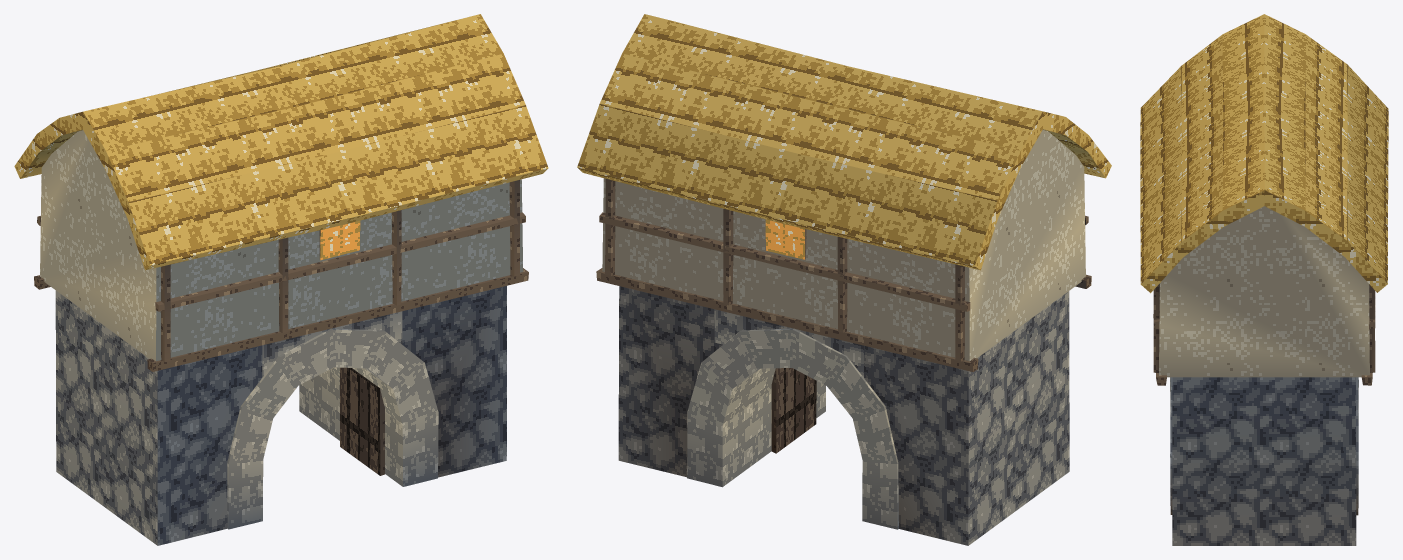
File: vlg.gatehouse__open.glb
The picture shows the model from 3 angles, left to right: view 1: azimuth 30°, elevation 25°; view 2: azimuth 150°, elevation 25°; view 3: azimuth 270°, elevation 25°; orthographic projection. The views are drawn at different scales.
Visible parts, largest first — view 1: kit_roof, kit_stonework, kit_walls, kit_frame, kit_fittings; view 2: kit_roof, kit_stonework, kit_walls, kit_frame, kit_fittings; view 3: kit_roof, kit_stonework, kit_walls, kit_frame.
Part boxes in pixels (x1,y1,x2,y2): kit_roof: (14,14,548,270); kit_stonework: (55,286,506,545); kit_walls: (40,130,523,361); kit_frame: (34,180,528,371); kit_fittings: (319,220,384,475); kit_roof: (577,14,1111,270); kit_stonework: (618,286,1069,545); kit_walls: (602,130,1085,361); kit_frame: (596,179,1091,371); kit_fittings: (765,219,816,453); kit_roof: (1140,14,1388,293); kit_stonework: (1170,377,1358,545); kit_walls: (1159,206,1369,377); kit_frame: (1153,284,1375,385).
Bounding box in the file's own units: 9.12 × 8.82 × 5.41.
Materials: 8 (8 with a texture image).
